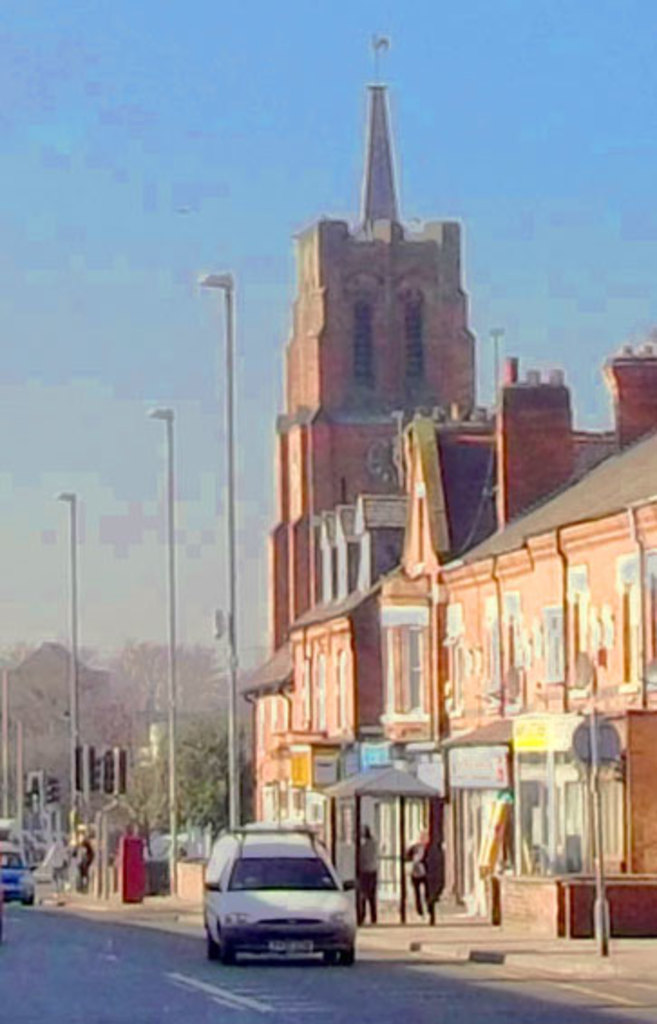Car: (206, 828, 351, 958), (0, 837, 36, 897)
